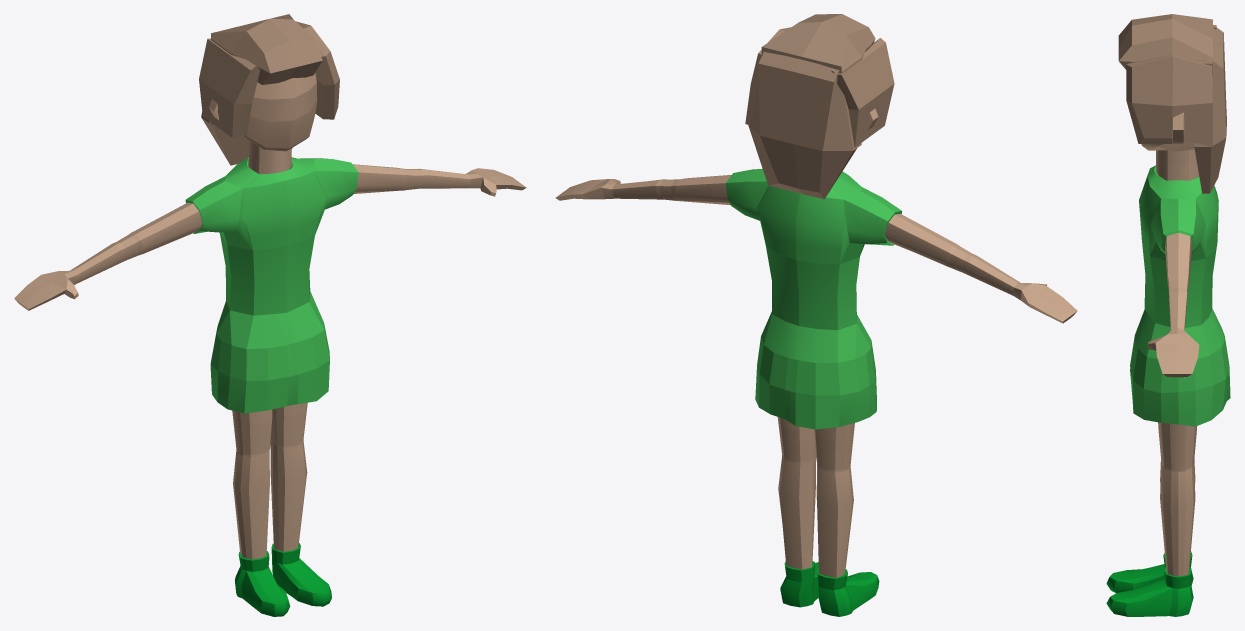
Rendered from GirlClassmate3.fbx.
3 views of the same model, side by side, from view 1: azimuth 30°, elevation 25°; view 2: azimuth 150°, elevation 25°; view 3: azimuth 270°, elevation 25° (orthographic).
Parts seen in each view (by area): view 1: polySurface12, polySurface9; view 2: polySurface12, polySurface9; view 3: polySurface12, polySurface9.
Boxes of the visible parts, x1=… form: polySurface12: x1=14, y1=73, x2=526, y2=616; polySurface9: x1=199, y1=14, x2=339, y2=165; polySurface12: x1=555, y1=108, x2=1077, y2=616; polySurface9: x1=745, y1=14, x2=894, y2=199; polySurface12: x1=1106, y1=112, x2=1230, y2=616; polySurface9: x1=1118, y1=14, x2=1226, y2=193.
Size of the model in its own units: 49.75 by 54.59 by 10.58.
